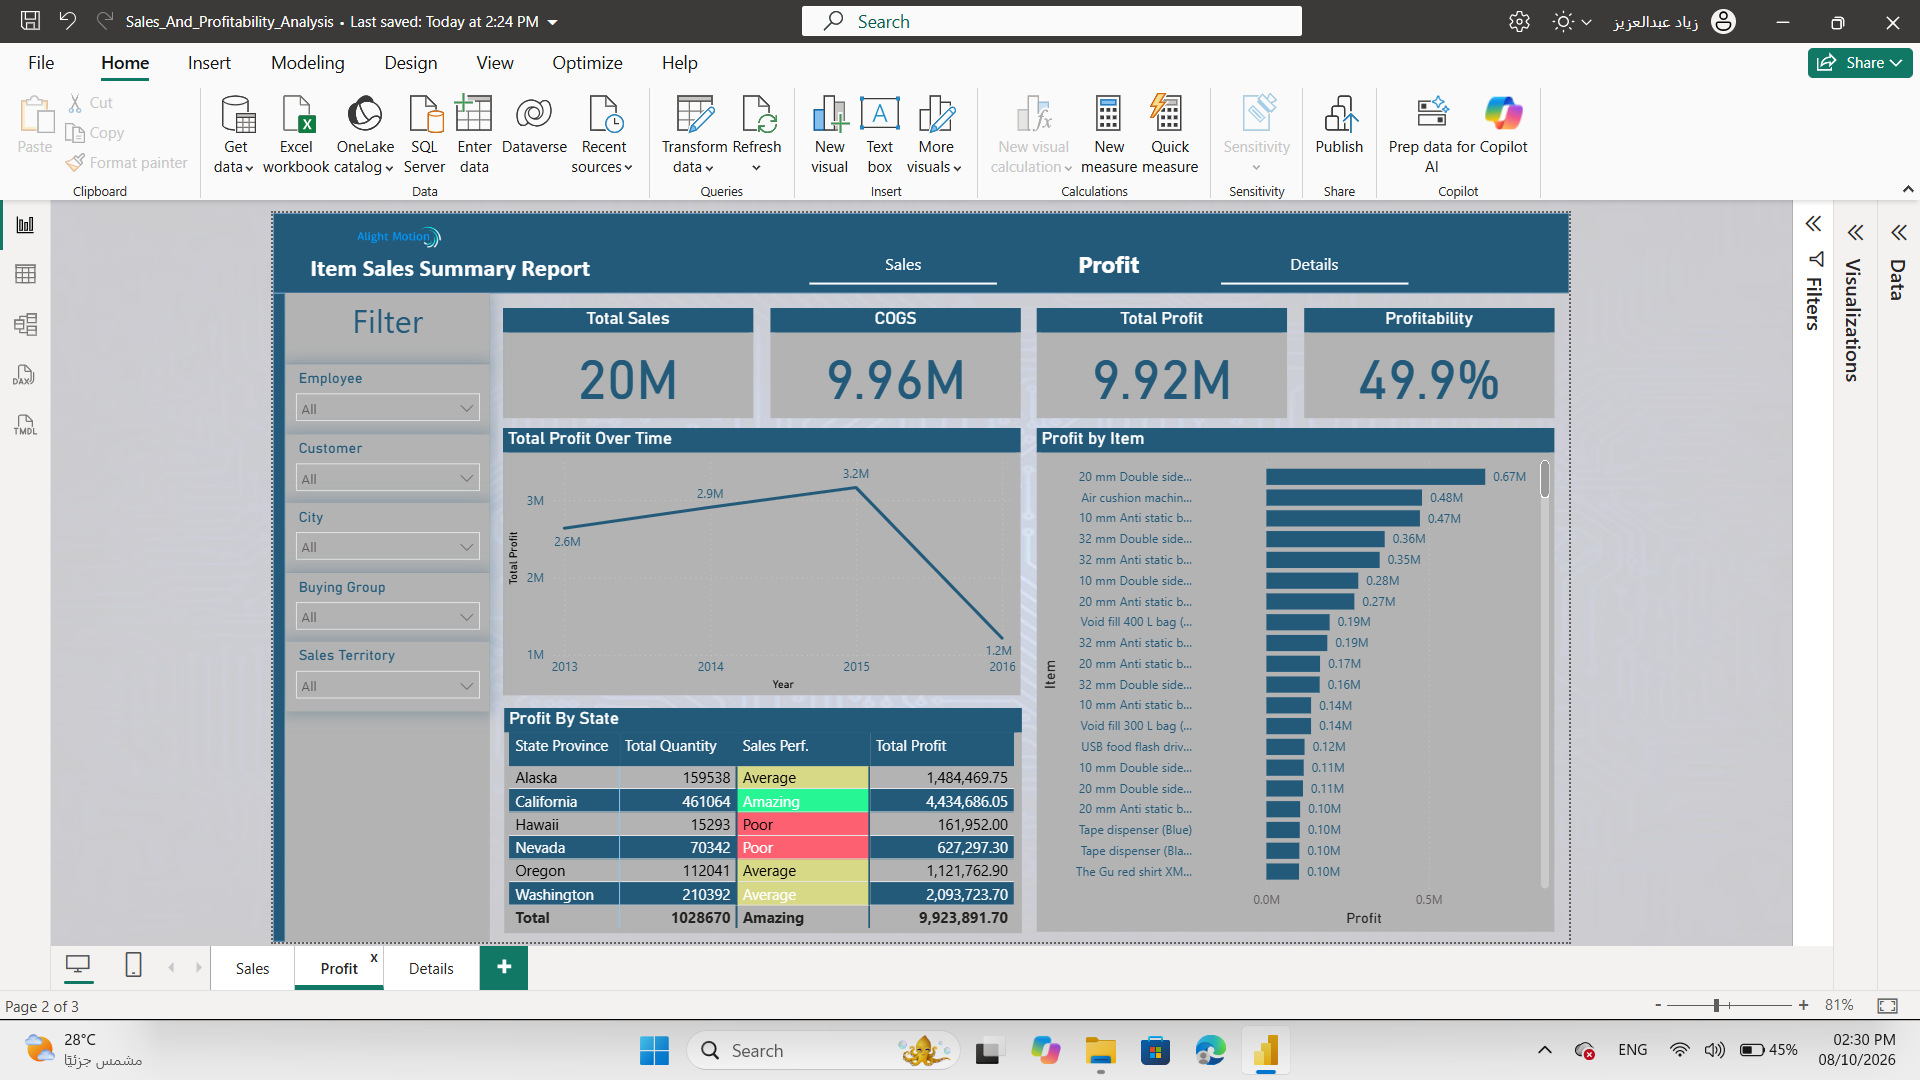

The page's visual inventory and layout, read from the dashboard file:
{"tool":"powerbi","page":{"name":"Profit","canvas":[1280,720],"ordinal":1},"visuals":[{"type":"shape","box":[0,0,1280.3,79.5],"z":0},{"type":"shape","box":[0,79.5,12.2,640.8],"z":1000},{"type":"shape","box":[12.2,79.5,201.8,640.8],"z":2000},{"type":"image","box":[6.1,0,237.2,47.7],"z":3000},{"type":"textbox","box":[31.8,34.2,292.3,40.4],"z":4000},{"type":"card","title":"Total Sales","fields":{"Values":["Sum(FactSale.Total Excluding Tax)"]},"box":[227.4,94.2,247,108.8],"z":5000},{"type":"card","title":"Profitability","fields":{"Values":["FactSale.Profitability"]},"box":[1018.6,94.2,247,108.8],"z":6000},{"type":"card","title":"Total Profit","fields":{"Values":["Sum(FactSale.Profit)"]},"box":[754.5,94.2,247,108.8],"z":7000},{"type":"card","title":"COGS","fields":{"Values":["Sum(FactSale.Costs)"]},"box":[491.6,94.2,247,108.8],"z":8000},{"type":"textbox","box":[12.2,79.5,201.8,69.7],"z":9000},{"type":"lineChart","title":"Total Profit Over Time","fields":{"Category":["DimDate.Date.Variation.Date Hierarchy.Year","DimDate.Date.Variation.Date Hierarchy.Quarter","DimDate.Date.Variation.Date Hierarchy.Month","DimDate.Date.Variation.Date Hierarchy.Day"],"Y":["Sum(FactSale.Profit)"]},"box":[227.4,212.8,511.1,264.1],"z":10000},{"type":"clusteredBarChart","fields":{"Category":["DimStockItem.Stock Item"],"Y":["Sum(FactSale.Profit)"]},"box":[754.5,212.8,511.1,497.7],"z":11000},{"type":"pivotTable","title":"Profit By State","fields":{"Rows":["DimCity.State Province"],"Values":["Sum(FactSale.Quantity)","FactSale.Sales Perf.","Sum(FactSale.Profit)"]},"box":[227.8,488.5,511.1,222.6],"z":12000},{"type":"slicer","fields":{"Values":["DimEmployee.Employee"]},"box":[12.3,149.6,201.8,68.5],"z":13000},{"type":"slicer","fields":{"Values":["DimCustomer.Customer"]},"box":[12,218.2,201.8,68.5],"z":14000},{"type":"slicer","fields":{"Values":["DimCity.City"]},"box":[12.3,286.8,201.8,68.5],"z":15000},{"type":"slicer","fields":{"Values":["DimCustomer.Buying Group"]},"box":[12.3,355.4,201.8,68.5],"z":16000},{"type":"slicer","fields":{"Values":["DimCity.Sales Territory"]},"box":[12.3,424,201.8,68.5],"z":17000},{"type":"pageNavigator","box":[525.8,24.5,600.4,50.1],"z":18000}]}

Visuals, with their boxes on the page's 1280x720 design canvas (x1, y1, x2, y2). These are canvas units, not pixel positions in the 1920x1080 screenshot, which may show the page scaled, cropped or inside an application window:
shape: bbox=(0, 0, 1280, 80)
shape: bbox=(0, 80, 12, 720)
shape: bbox=(12, 80, 214, 720)
image: bbox=(6, 0, 243, 48)
textbox: bbox=(32, 34, 324, 75)
"Total Sales" card: bbox=(227, 94, 474, 203)
"Profitability" card: bbox=(1019, 94, 1266, 203)
"Total Profit" card: bbox=(754, 94, 1002, 203)
"COGS" card: bbox=(492, 94, 739, 203)
textbox: bbox=(12, 80, 214, 149)
"Total Profit Over Time" lineChart: bbox=(227, 213, 738, 477)
clusteredBarChart - DimStockItem.Stock Item x Sum(FactSale.Profit): bbox=(754, 213, 1266, 710)
"Profit By State" pivotTable: bbox=(228, 488, 739, 711)
slicer - DimEmployee.Employee: bbox=(12, 150, 214, 218)
slicer - DimCustomer.Customer: bbox=(12, 218, 214, 287)
slicer - DimCity.City: bbox=(12, 287, 214, 355)
slicer - DimCustomer.Buying Group: bbox=(12, 355, 214, 424)
slicer - DimCity.Sales Territory: bbox=(12, 424, 214, 492)
pageNavigator: bbox=(526, 24, 1126, 75)
